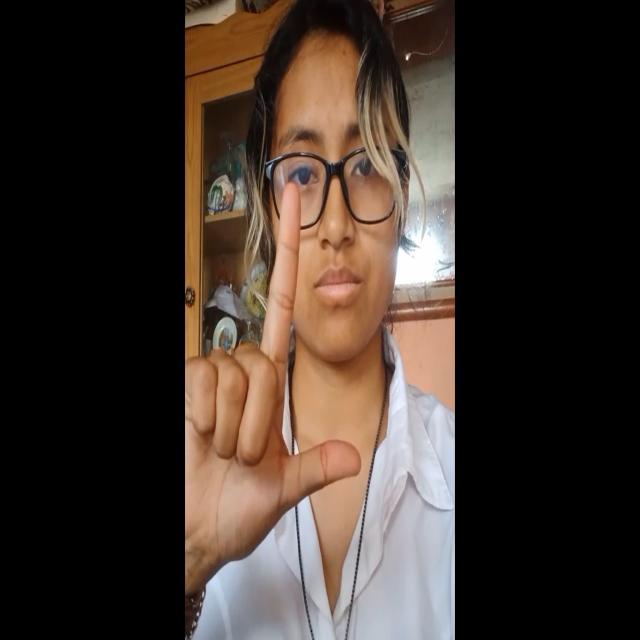L: (186, 174, 370, 538)
